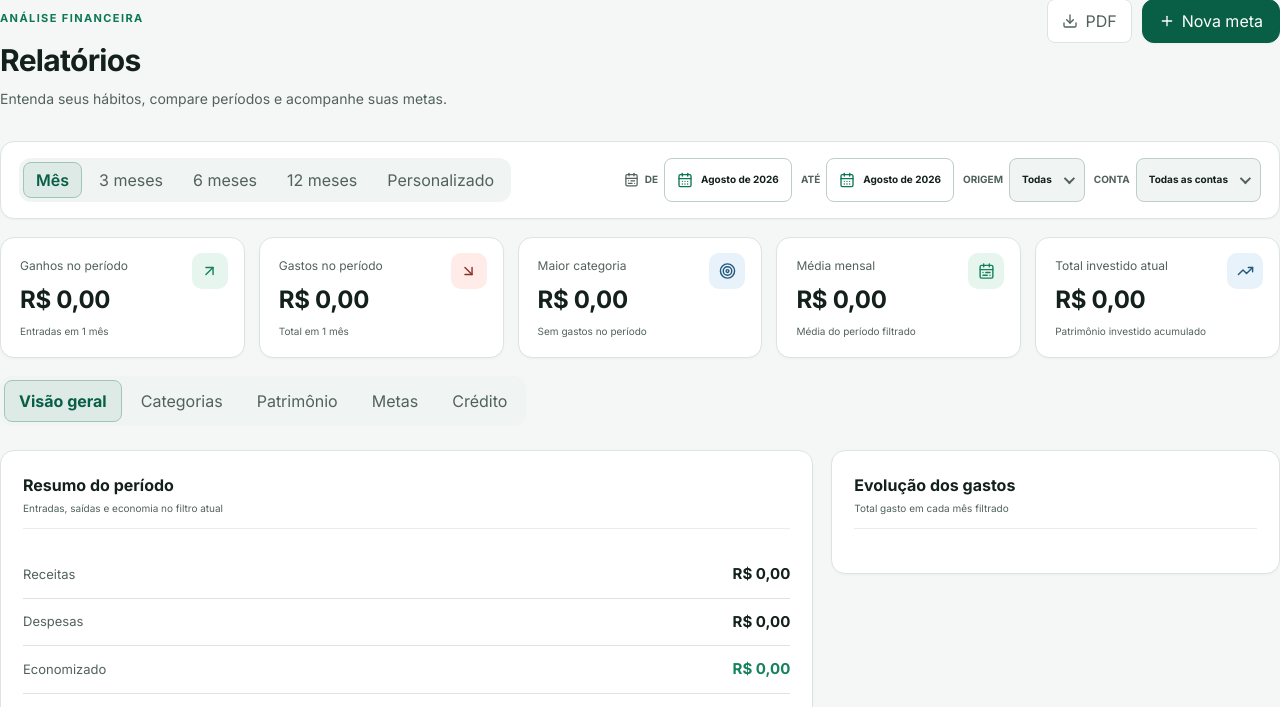
Reports deferred net worth › keeps the type immutable when editing an existing target
The width and height of the screenshot is (1280, 707).
Click the tab "Metas" at (395, 401), box [357,380,433,422]
(page scrolled)
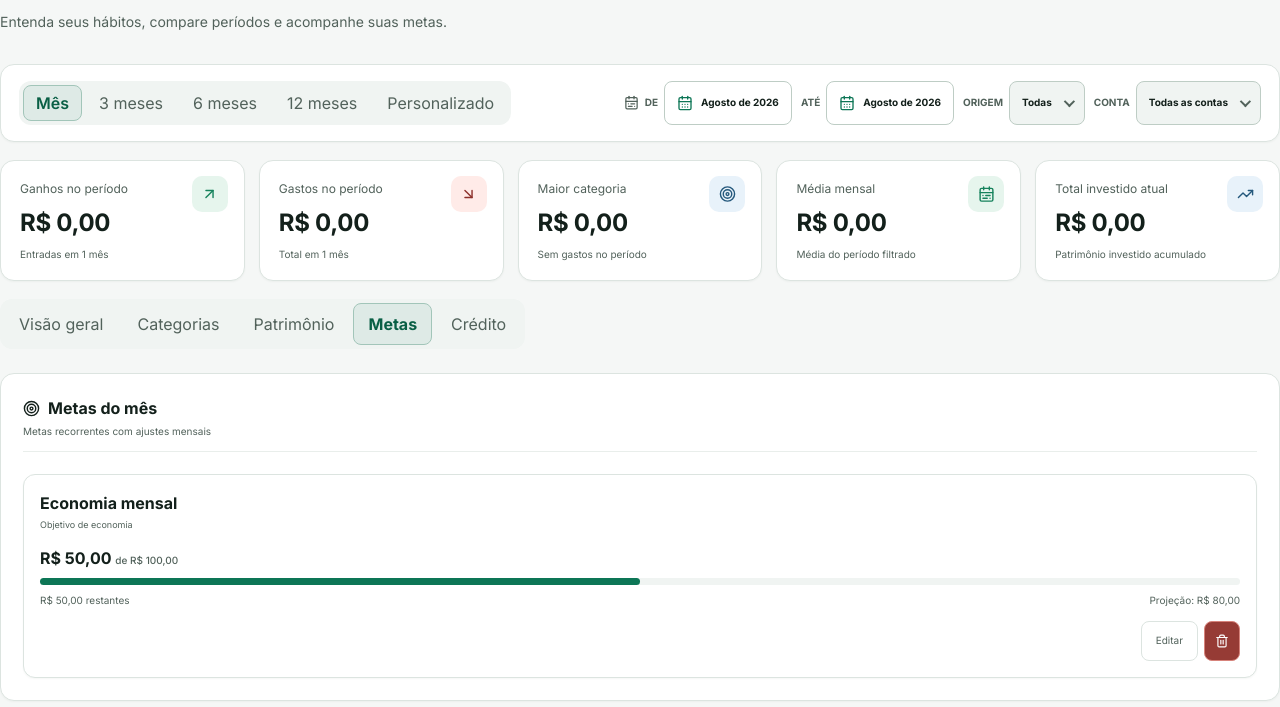
Click the button "Editar" at (1169, 640), box [1141,620,1198,660]
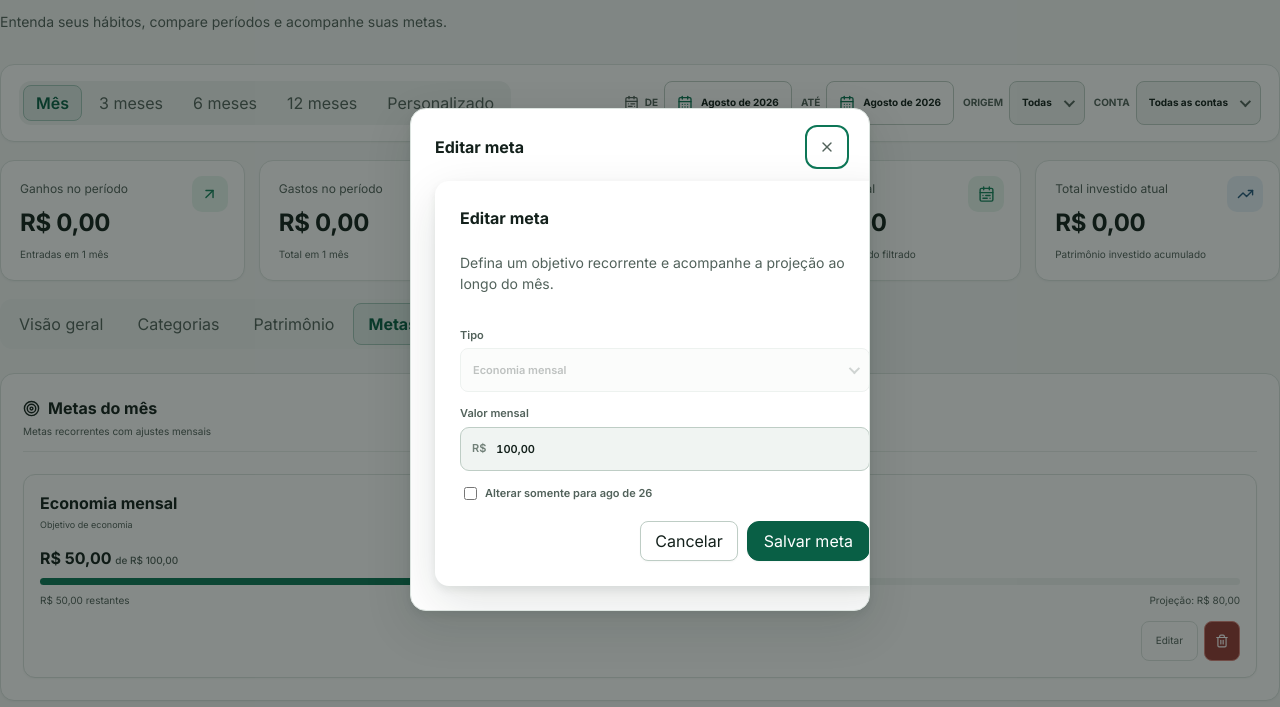
Expected: the dropdown named "Tipo" is disabled, [460,348,870,392]
